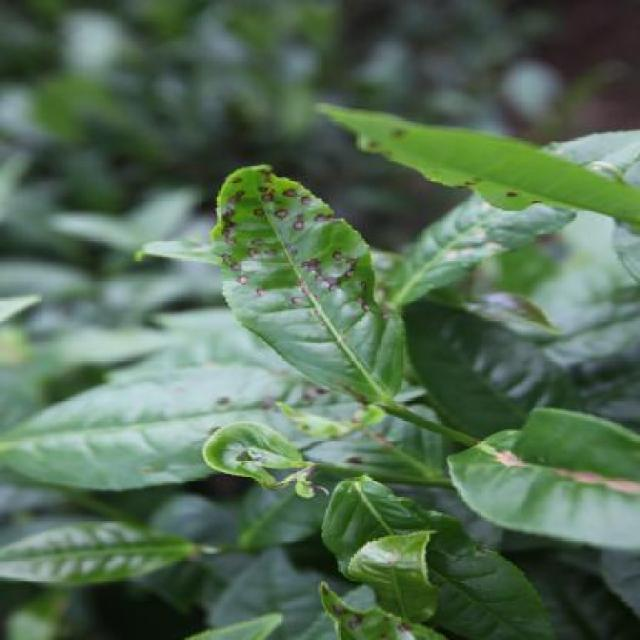Tea Mosquito bug infested leaf: (217, 172, 398, 425)
